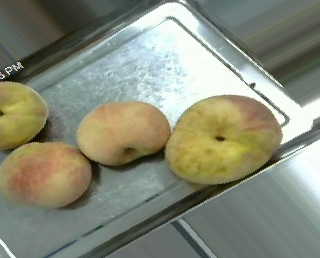Peach: (163, 94, 284, 185), (77, 98, 170, 166), (0, 140, 90, 210), (0, 77, 47, 151)
